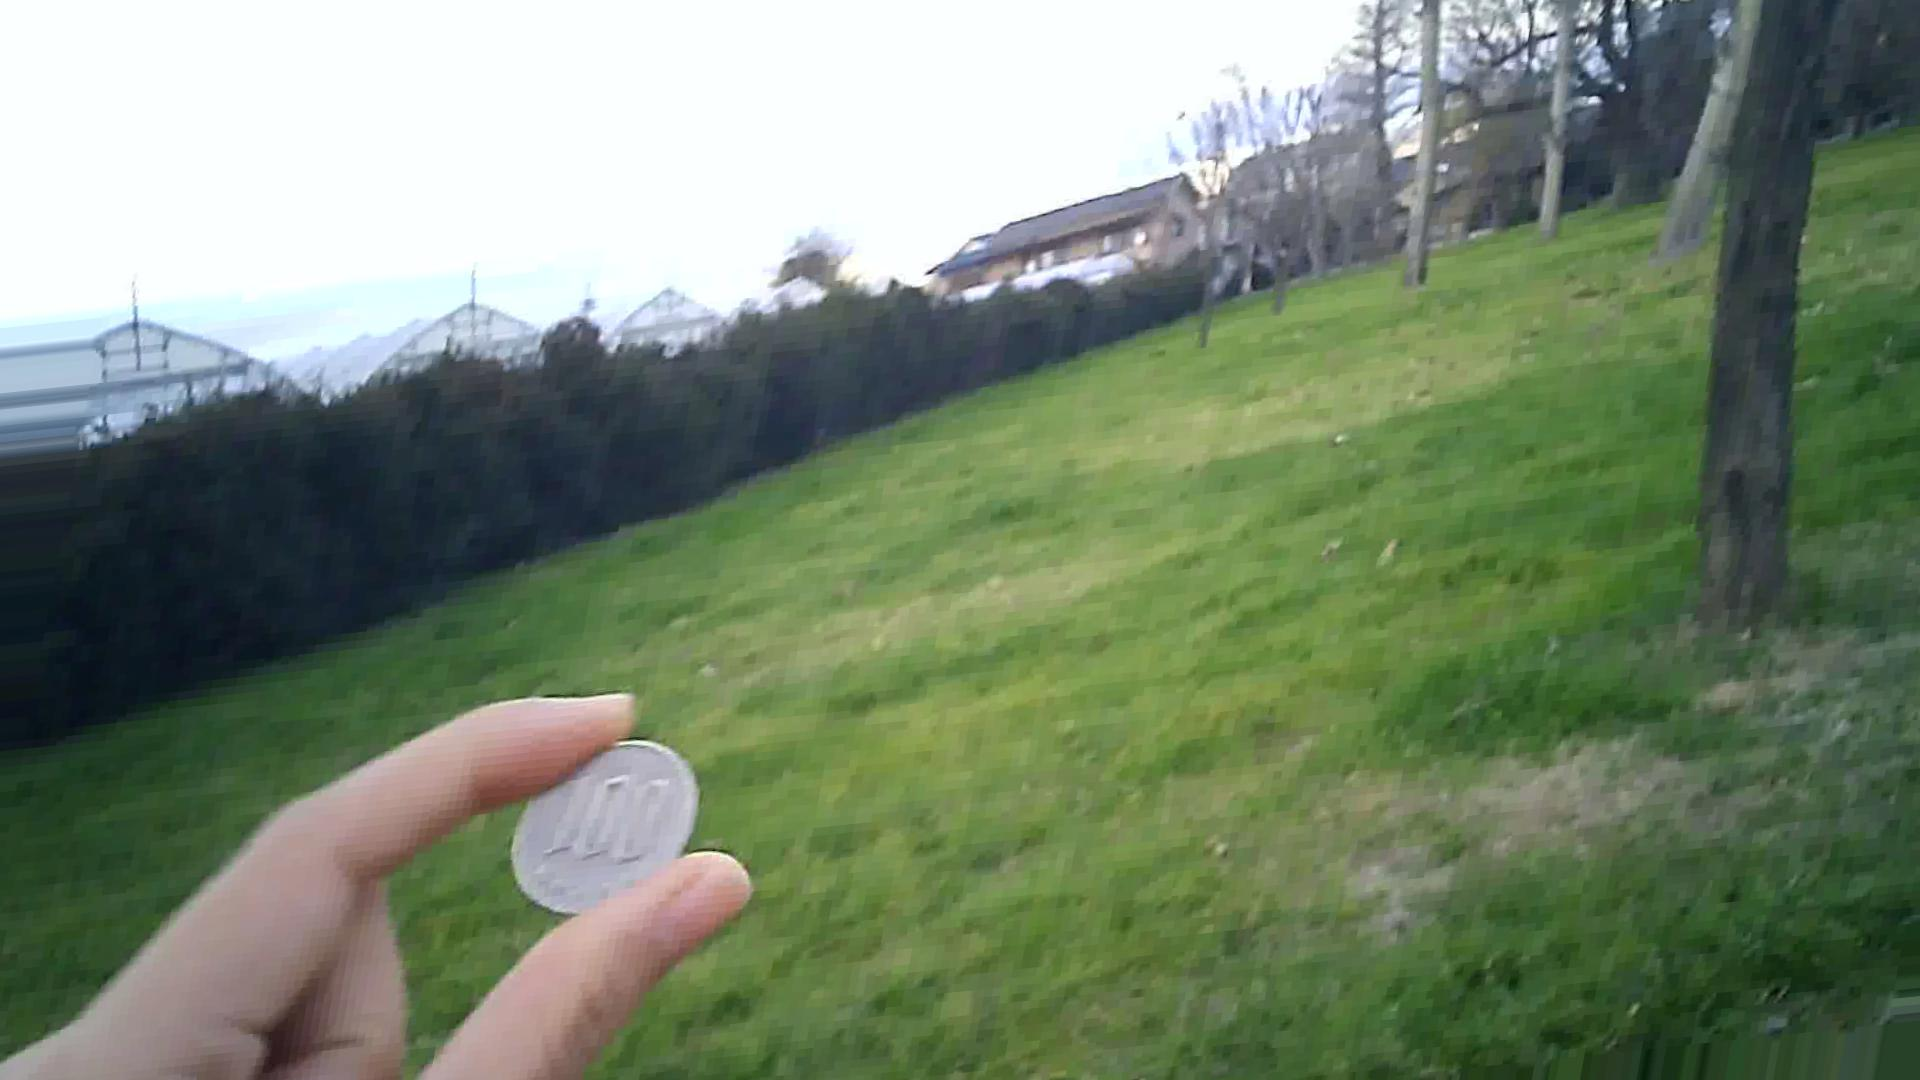100 Yen: (505, 713, 702, 913)
